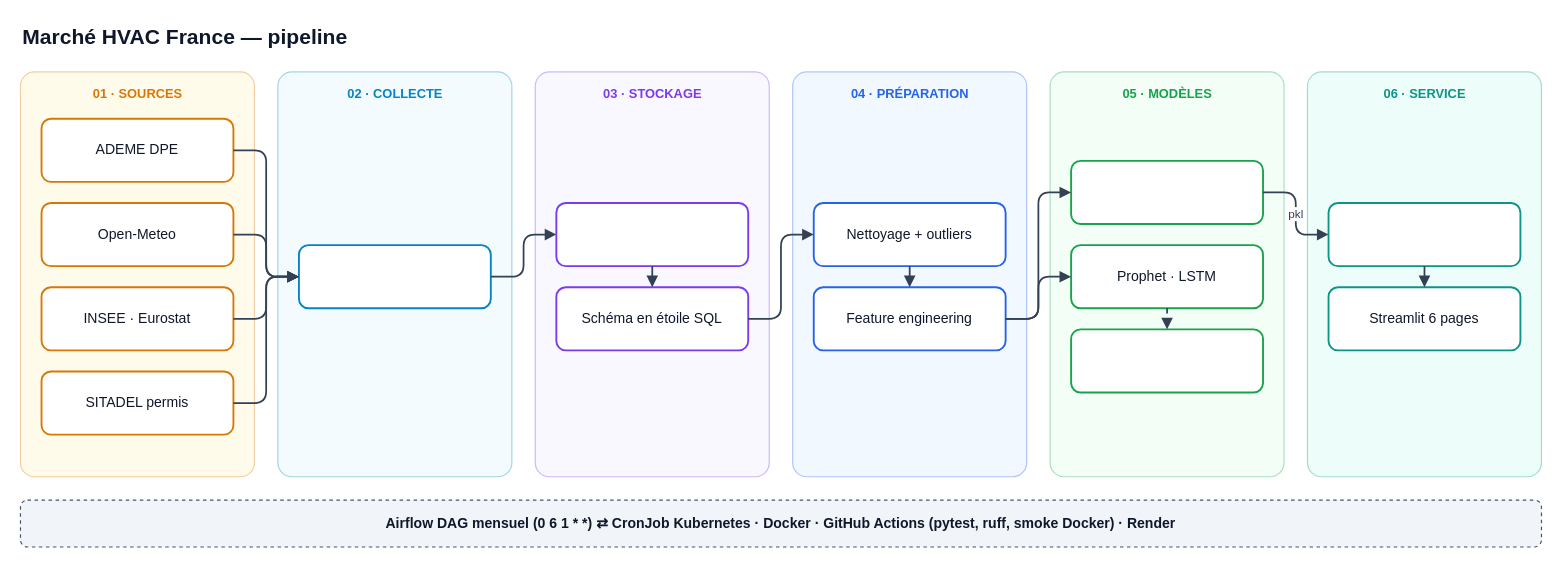
Image size: 1562x567. Some labels were removed from this diagram. The box of each missing label's shape, as (x1, y1, x2, y2) in pixels:
Collecteurs plugin: (297, 244, 491, 309)
Data lake CSV: (555, 201, 749, 267)
FastAPI: (1327, 201, 1521, 267)
Ridge · LightGBM: (1070, 159, 1263, 224)
SHAP: (1070, 328, 1263, 393)
